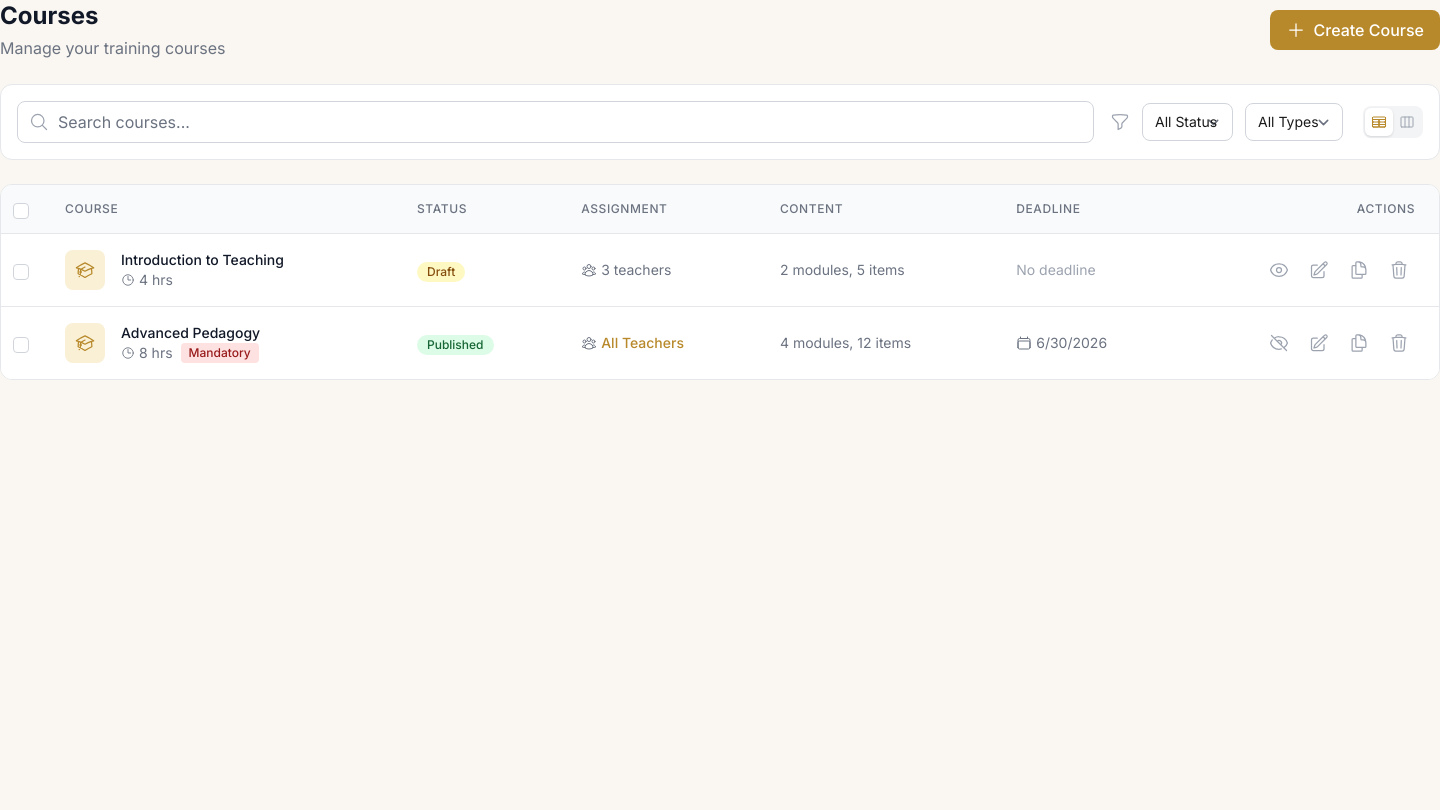
Test: CoursesPage › delete course › clicking the Delete trash icon opens a confirmation modal
This screenshot has width=1440, height=810.
Check: the text "Introduction to Teaching" is shown, box 121,250 -> 284,270
Click the button titled "Delete" in the row of "Introduction to Teaching" at (1399, 270), box 1383,254 -> 1415,286
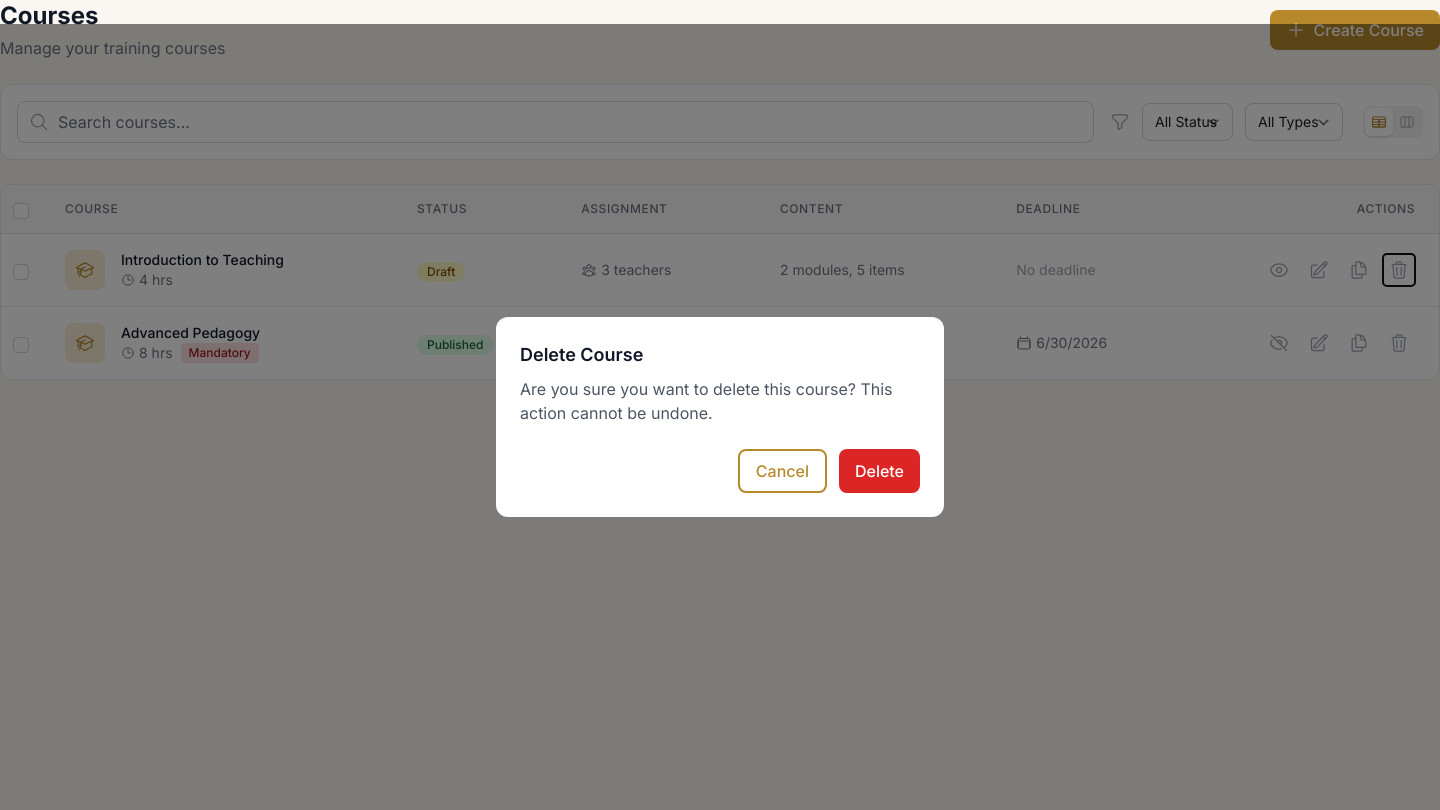
Check: the heading "Delete Course" is shown, box 520,344 -> 643,365
Check: the text "Are you sure you want to delete this course? This action cannot be undone." is shown, box 520,377 -> 920,425
